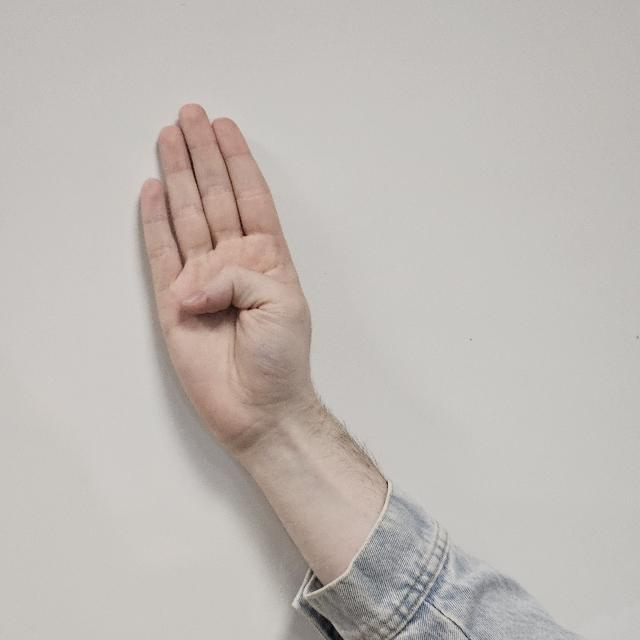Baixo: (140, 99, 318, 447)
